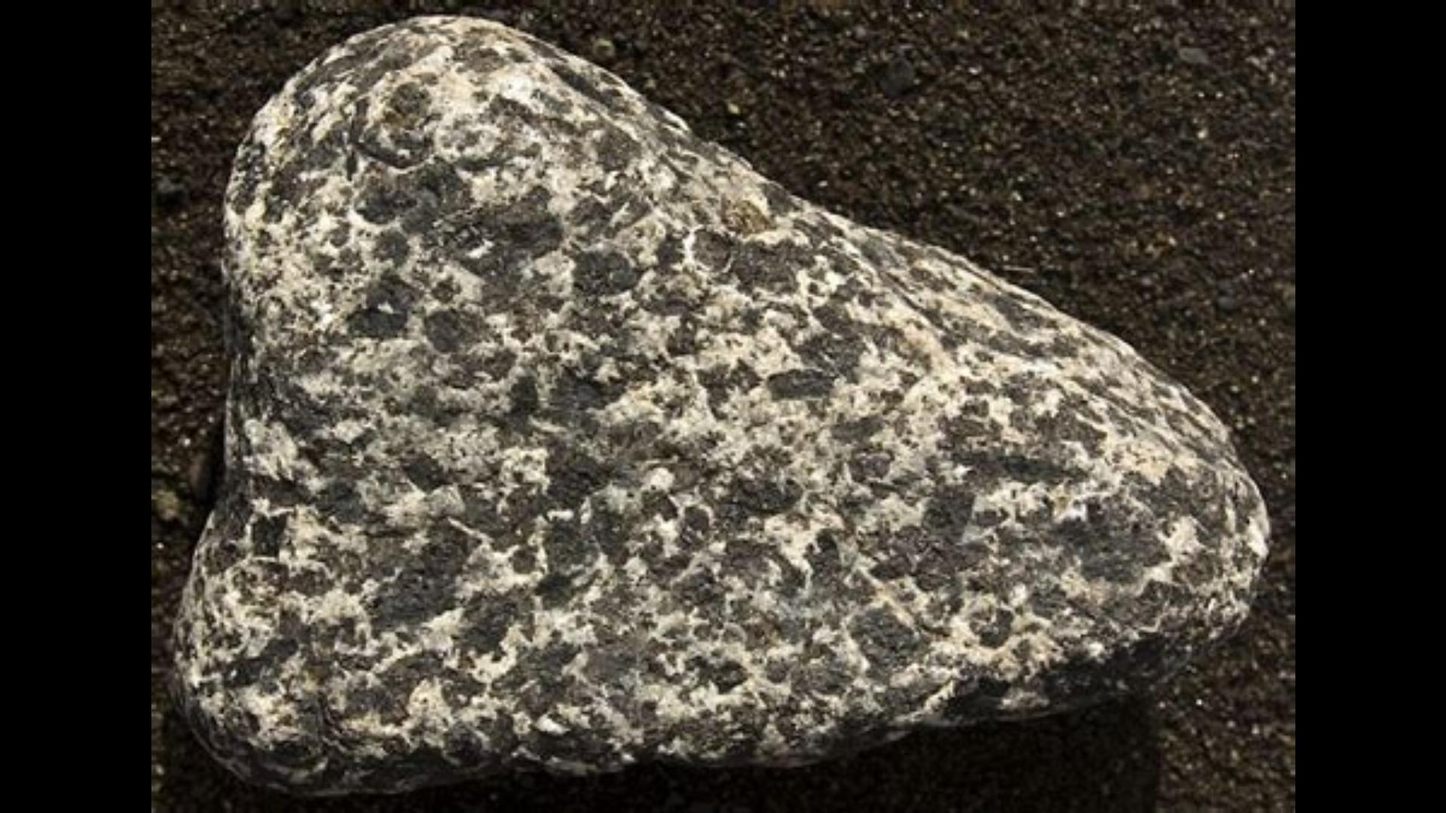rock: (175, 17, 1263, 791)
